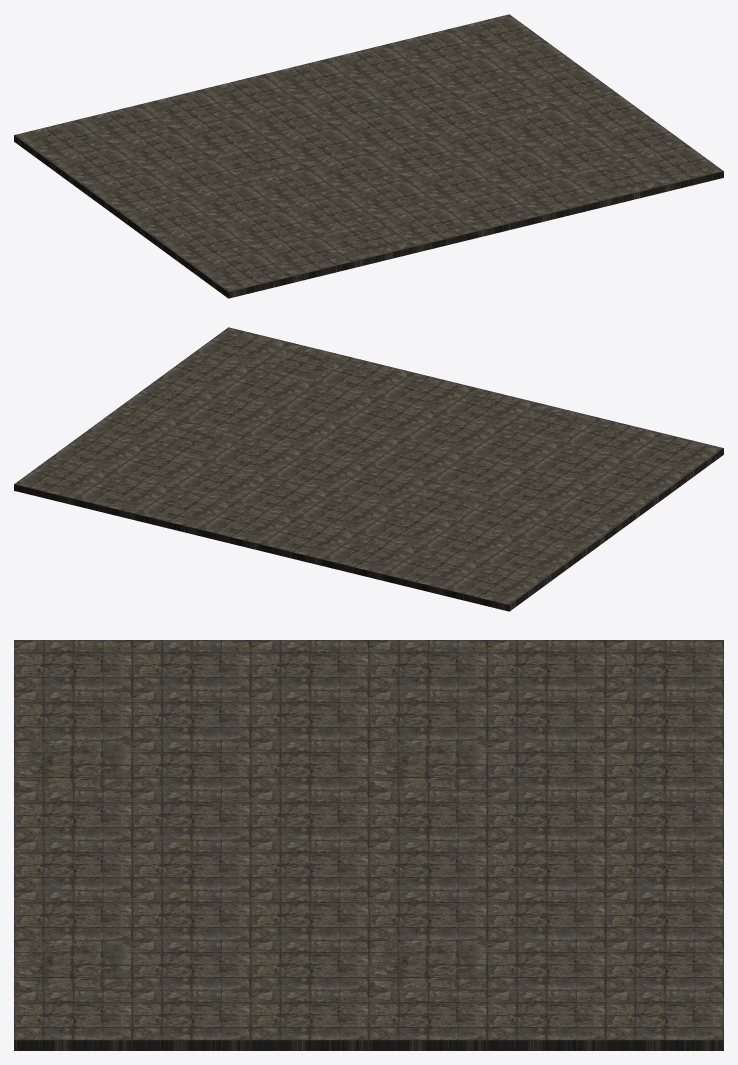
The model's file is FloorChinaBig.fbx.
3 renders of one model, top to bottom at view 1: azimuth 30°, elevation 25°; view 2: azimuth 150°, elevation 25°; view 3: azimuth 270°, elevation 25°, orthographic. The views are drawn at different scales.
Parts seen in each view (by area): view 1: Plane.046; view 2: Plane.046; view 3: Plane.046.
Boxes of the visible parts, x1,y1,x2,y2 form: Plane.046: [14, 14, 723, 298]; Plane.046: [14, 327, 723, 611]; Plane.046: [14, 640, 723, 1050].
Size of the model in its own units: 1600 by 20 by 1200.
